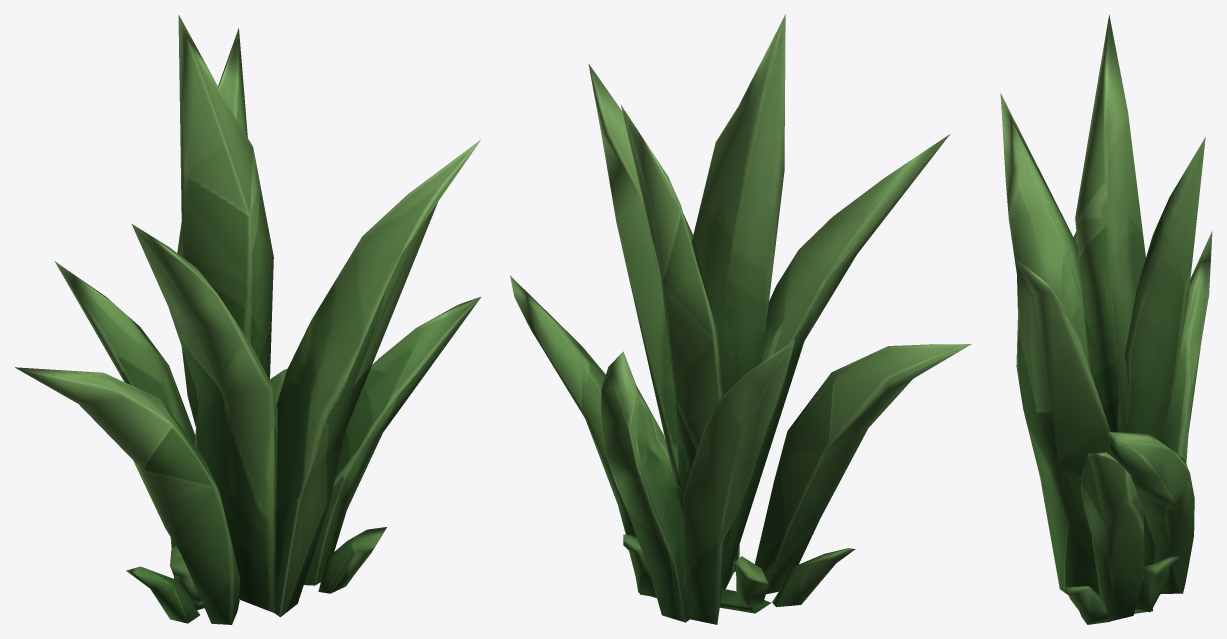
File: trava2_500.glb
The picture shows the model from 3 angles, left to right: view 1: azimuth 30°, elevation 25°; view 2: azimuth 150°, elevation 25°; view 3: azimuth 270°, elevation 25°; orthographic projection. The views are drawn at different scales.
Bounding box in the file's own units: 0.7749 × 0.9521 × 0.3369.
1 material, 1 textured.
